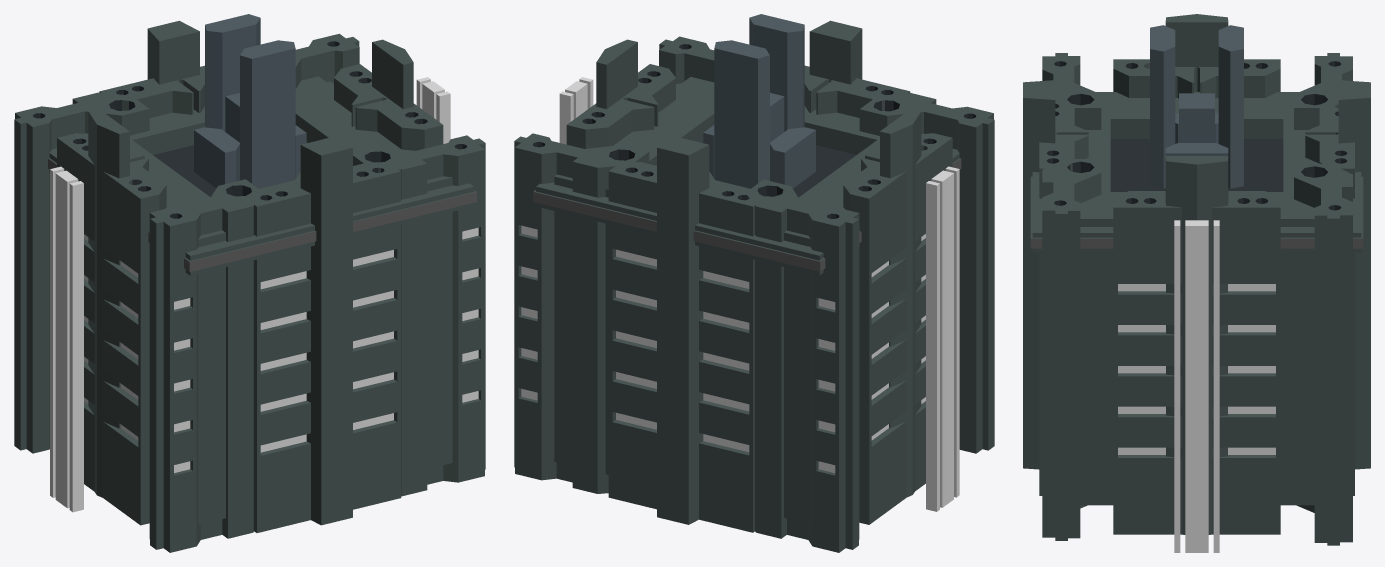
File: building_55.fbx
3 renders of one model, left to right at view 1: azimuth 30°, elevation 25°; view 2: azimuth 150°, elevation 25°; view 3: azimuth 270°, elevation 25°, orthographic.
Parts seen in each view (by area): view 1: building_55; view 2: building_55; view 3: building_55.
Part boxes in pixels (x1,y1,x2,y2): building_55: (14,14,485,552); building_55: (514,14,994,552); building_55: (1023,14,1370,552).
Bounding box in the file's own units: 1107 × 1181 × 882.
